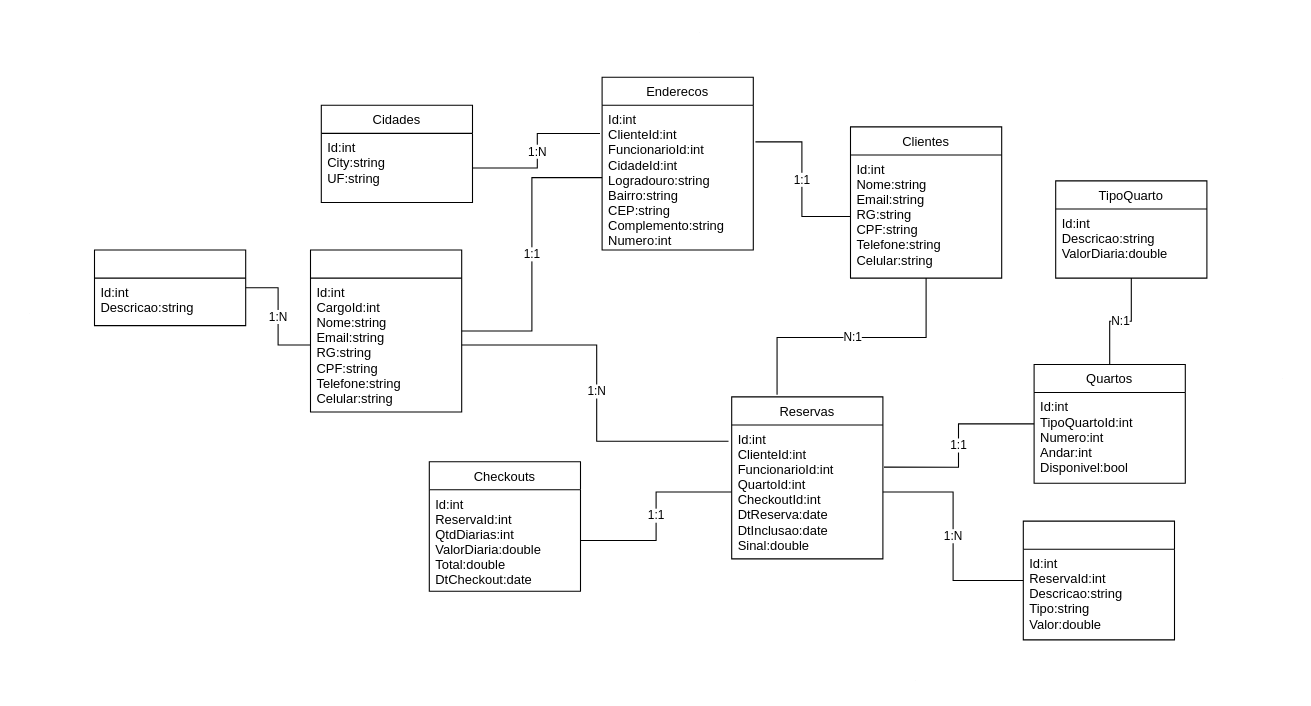
Some shapes in this 1311 by 706 pixel diagram are drawn without their labels. The shapes that lost their labels are listed below. From the top down, each one's box as (x1, y1, x2, y2) in pixels, then its label:
(93, 249, 246, 326): Cargos
(309, 249, 462, 412): Funcionarios
(1022, 520, 1174, 640): Servicos
